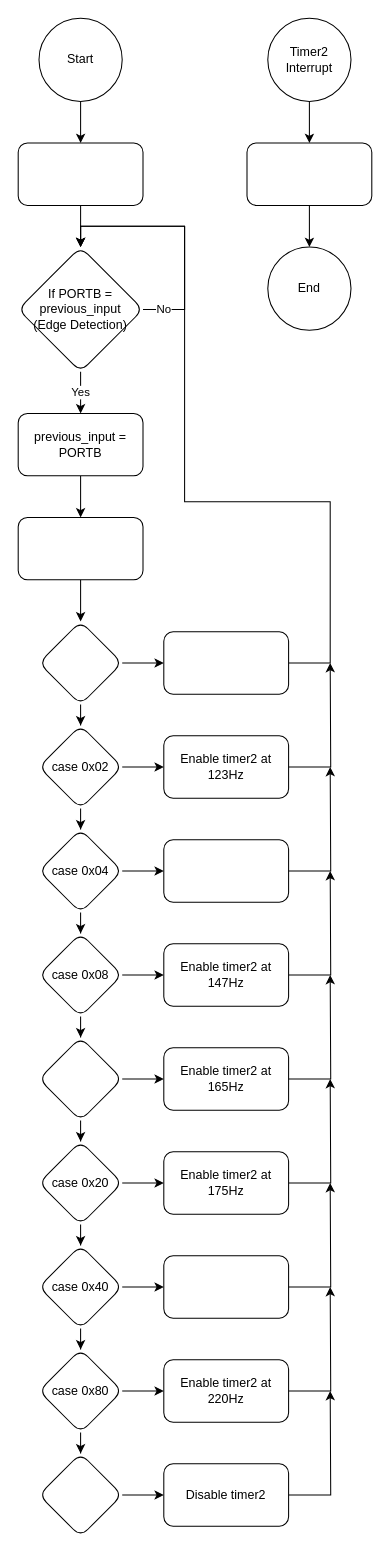
Image size: 390x1555. Some labels were removed from this diagram. Each missing label, with the centre of its shape:
case 0x00: (80,1494)
case 0x01: (80,662)
case 0x10: (80,1078)
Enable timer2 at 110Hz: (226,662)
Enable timer2 at 131Hz: (226,870)
Enable timer2 at 196Hz: (226,1286)
Init PIC, print to LCD, and set previous_input to PORTB: (80,173)
PORTC ^= 1: (309,173)
switch previous_input: (80,548)
